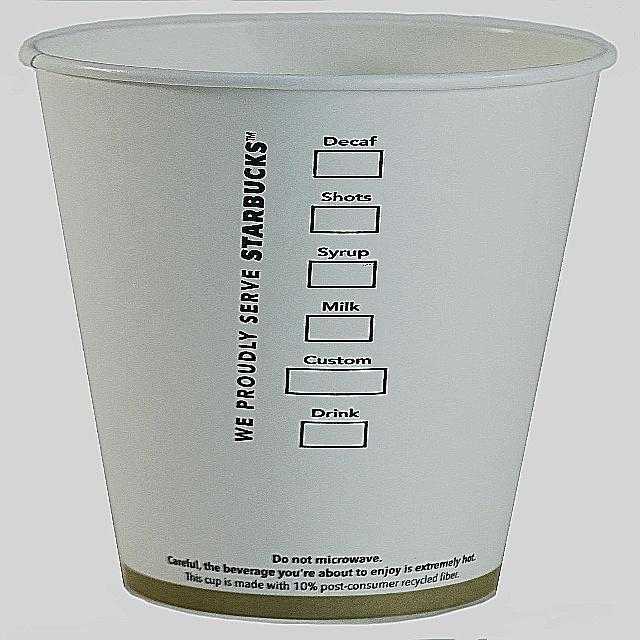paper_cup: (18, 11, 619, 625)
